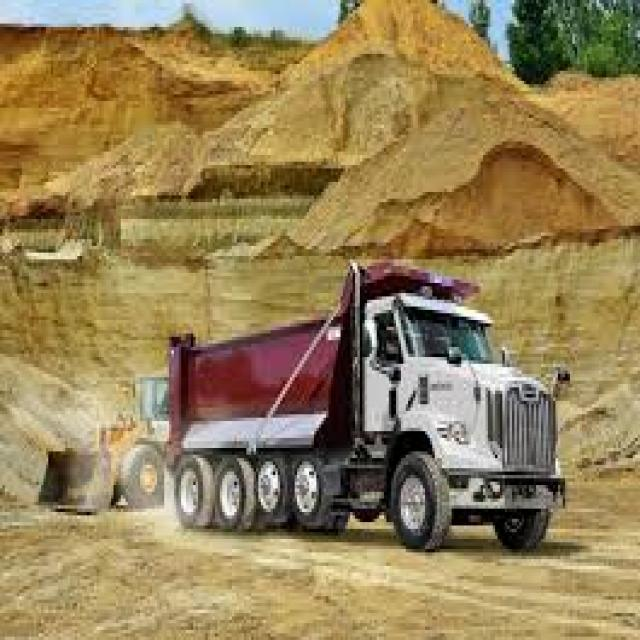dump_truck: (161, 261, 572, 557)
